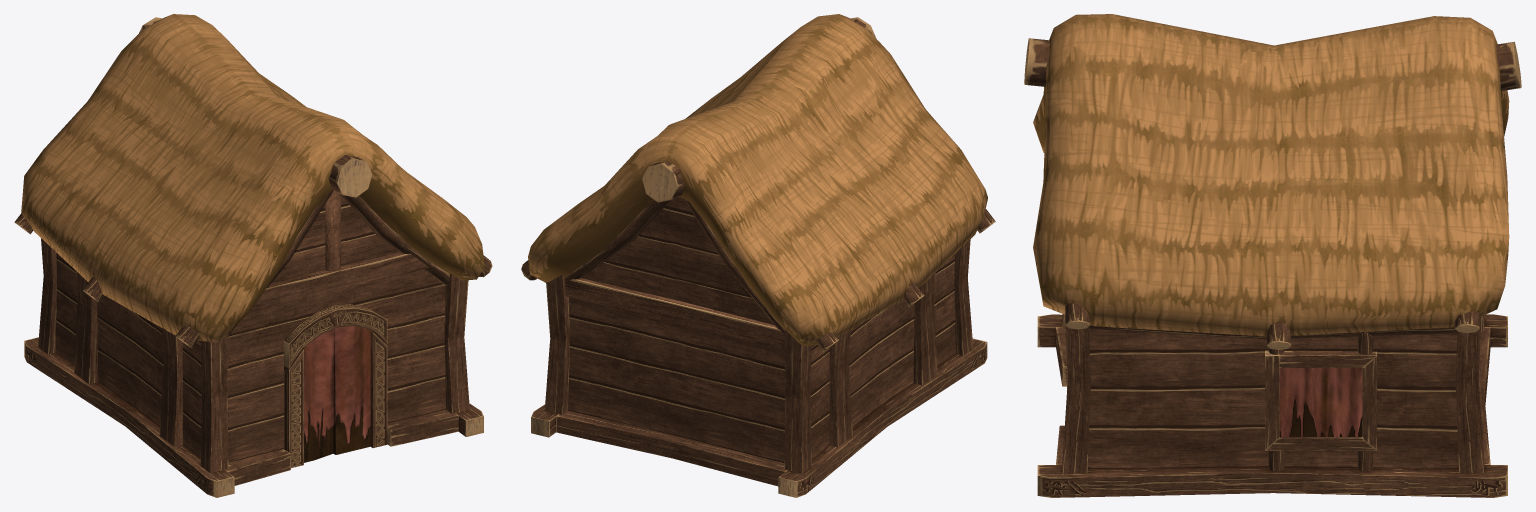
Rendered from House.fbx.
3 renders of one model, left to right at view 1: azimuth 30°, elevation 25°; view 2: azimuth 150°, elevation 25°; view 3: azimuth 270°, elevation 25°, orthographic. The views are drawn at different scales.
Parts seen in each view (by area): view 1: WoodCover.001; view 2: WoodCover.001; view 3: WoodCover.001.
Part boxes in pixels (x1,y1,x2,y2): WoodCover.001: [14, 14, 492, 497]; WoodCover.001: [521, 14, 995, 497]; WoodCover.001: [1024, 14, 1521, 497].
Bounding box in the file's own units: 362 × 336 × 381.
